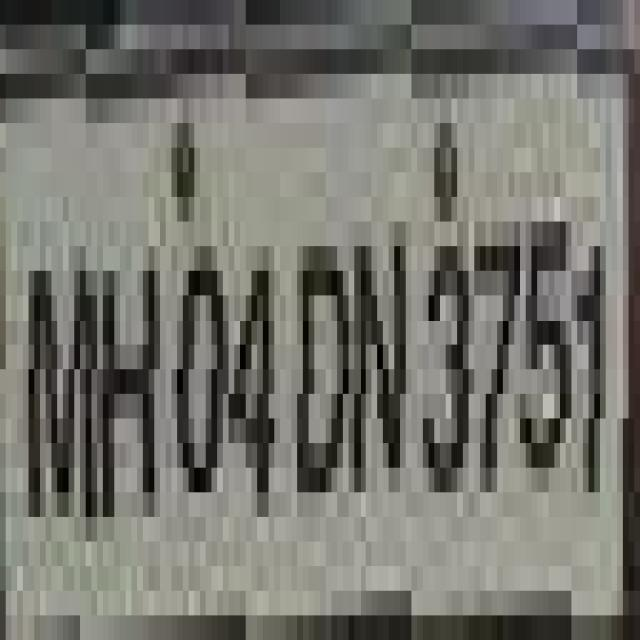plate: (0, 49, 611, 640)
